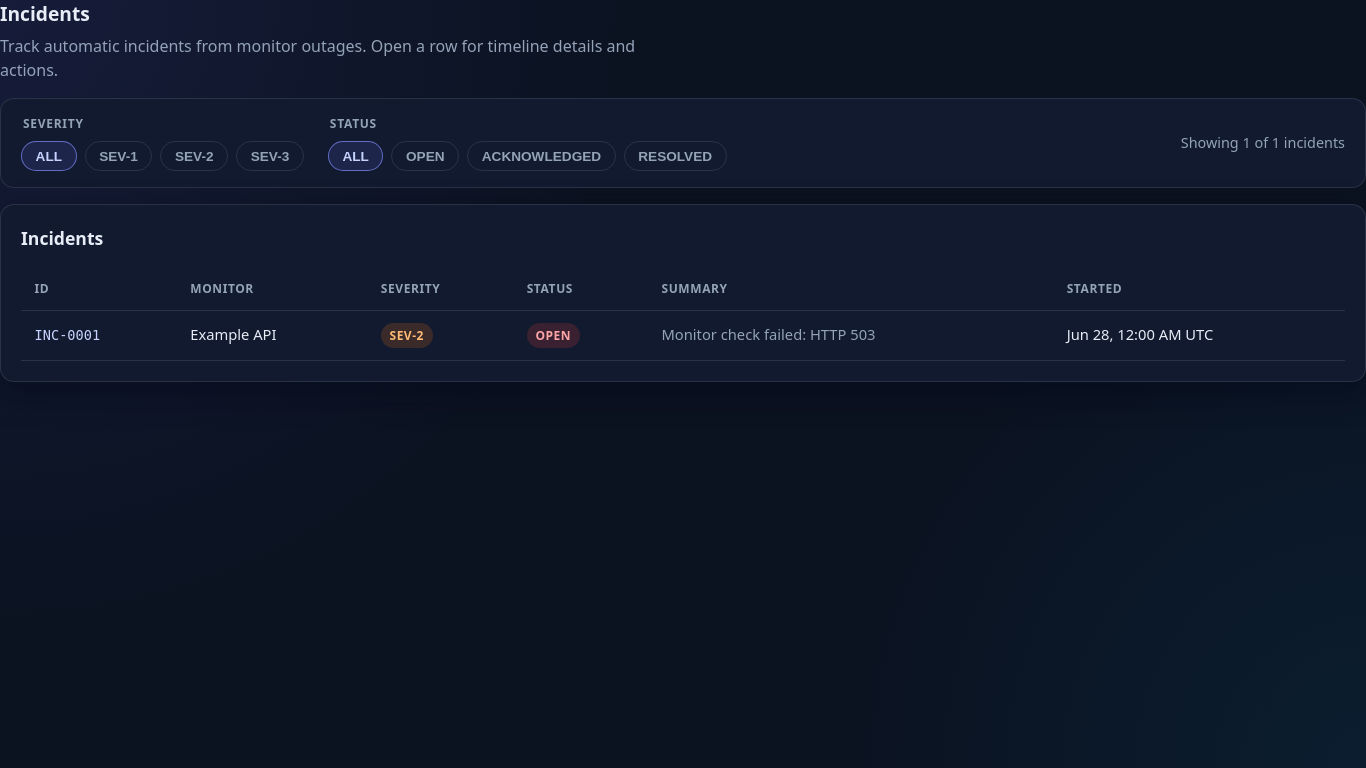
IncidentsPage timeline › shows read-only incident detail without admin key
Expected: the text "INC-0001" is shown, [35, 327, 100, 343]
Click the button "INC-0001": (683, 335) [21, 311, 1345, 360]
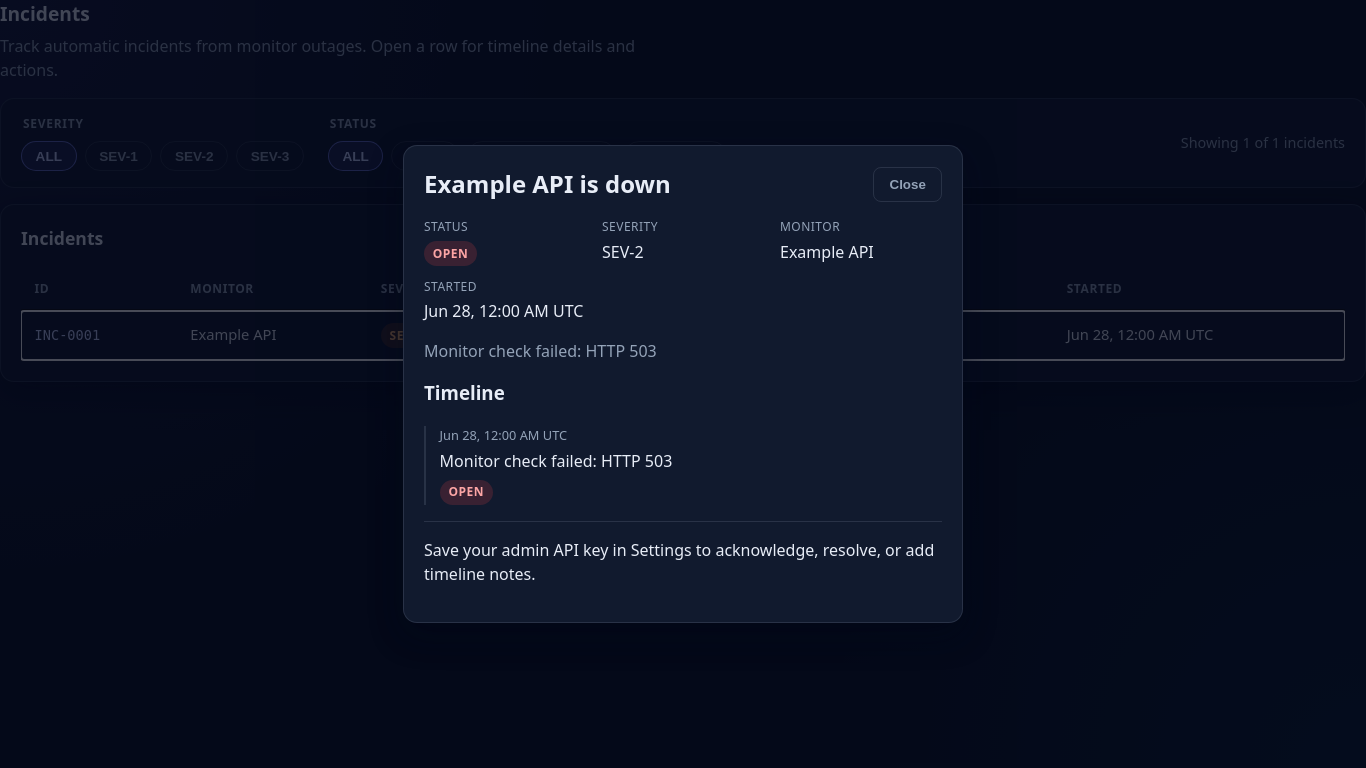
Expected: the heading "Example API is down" is shown, [424, 166, 671, 202]
Expected: the text "Save your admin API key" is shown, [424, 539, 934, 585]
